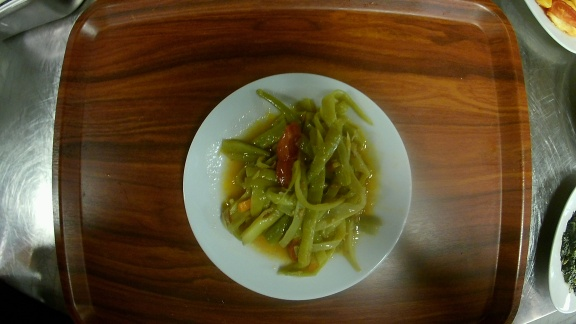tazefasulye: (182, 71, 415, 303)
